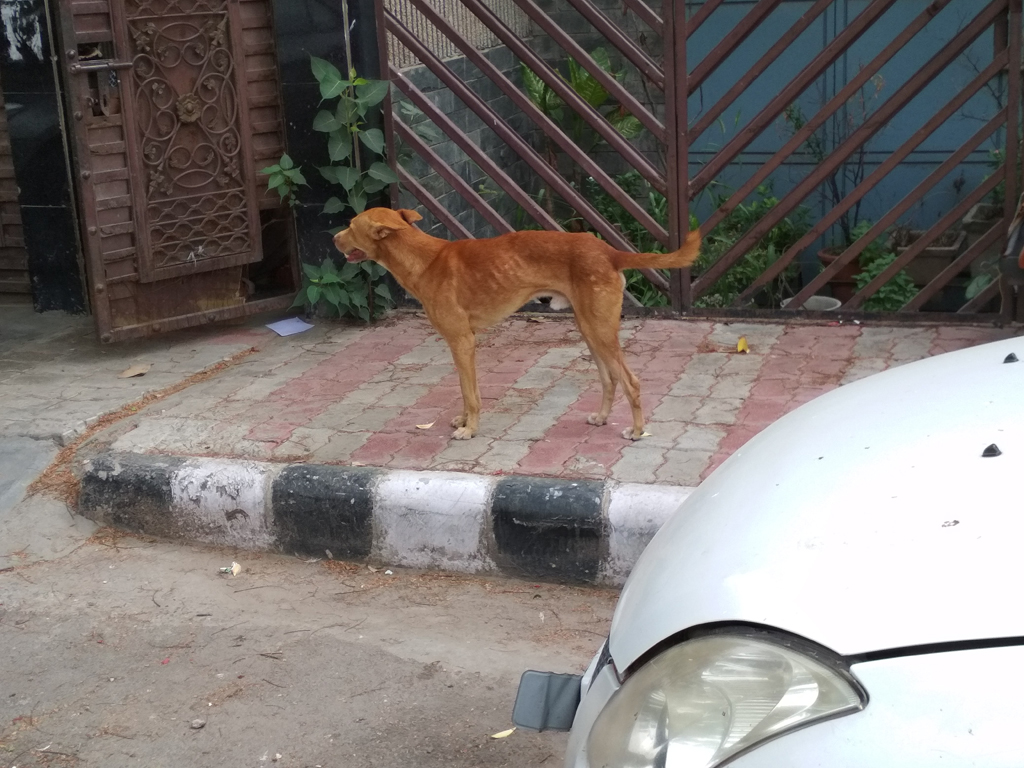dog: (332, 207, 701, 441)
